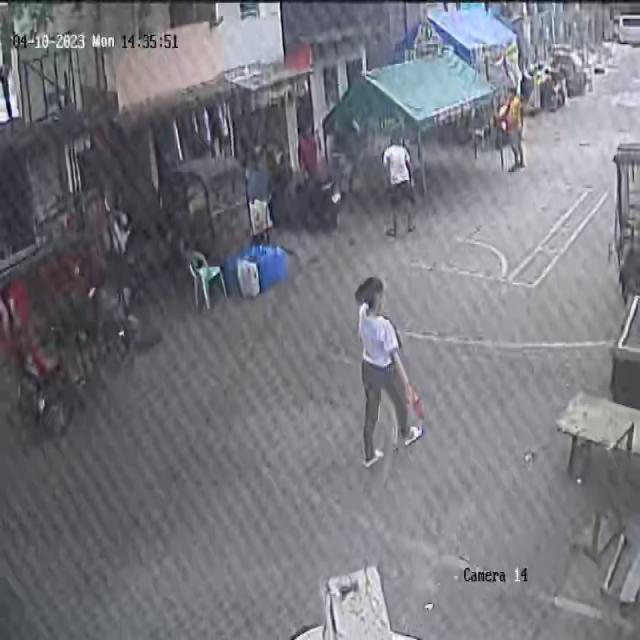human: (355, 280, 426, 469)
trash: (407, 380, 428, 426)
